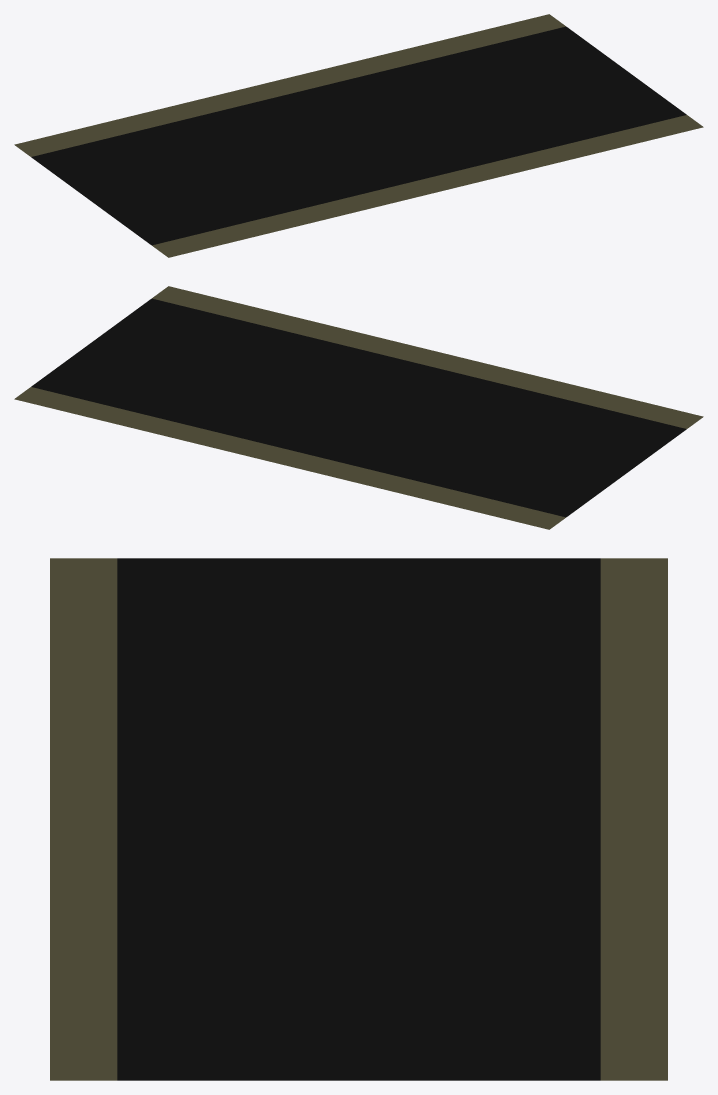
File: road long.fbx
3 renders of one model, top to bottom at view 1: azimuth 30°, elevation 25°; view 2: azimuth 150°, elevation 25°; view 3: azimuth 270°, elevation 25°, orthographic. The views are drawn at different scales.
Parts seen in each view (by area): view 1: Plane.006; view 2: Plane.006; view 3: Plane.006.
Boxes of the visible parts, box(x1,y1,x2,y2) form: Plane.006: box(14, 14, 703, 257); Plane.006: box(14, 286, 703, 529); Plane.006: box(50, 558, 667, 1080).
Size of the model in its own units: 800 by 6.52e-05 by 400.
